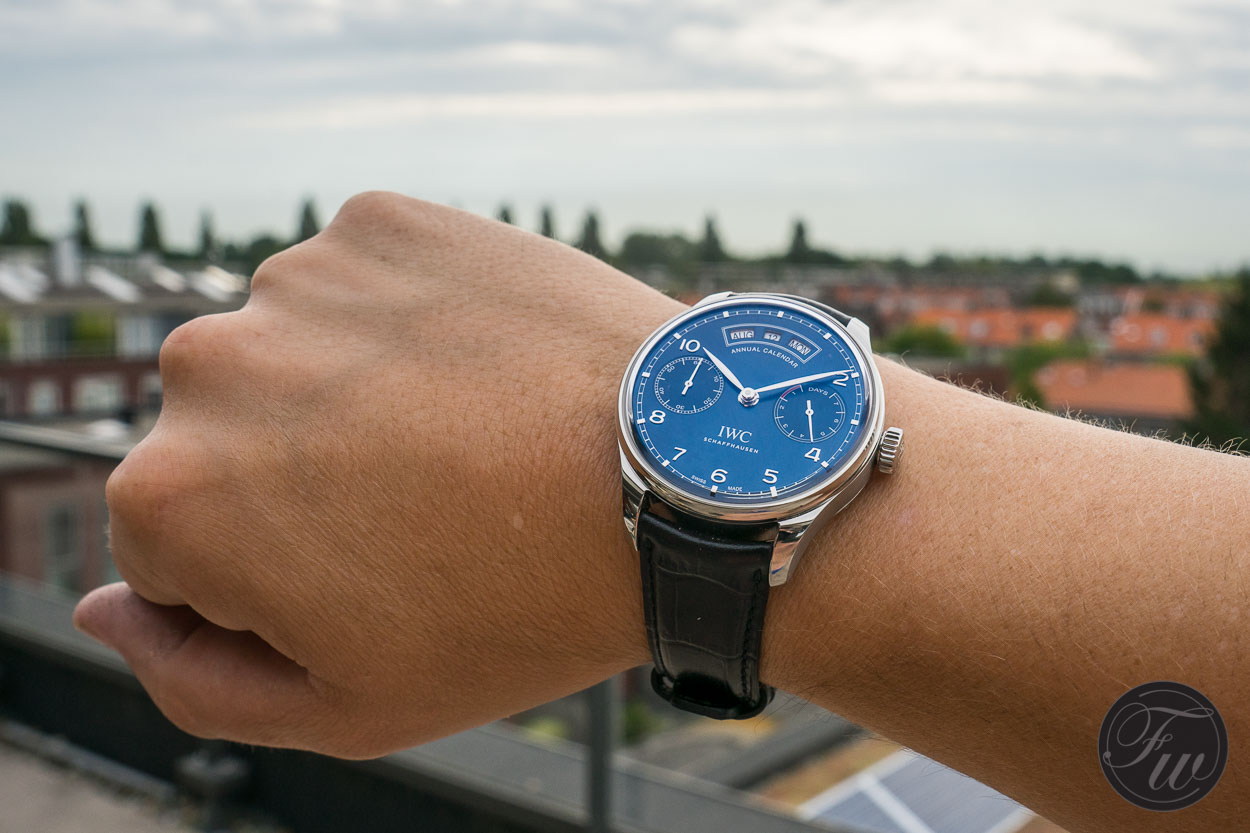clock: (628, 296, 879, 512)
